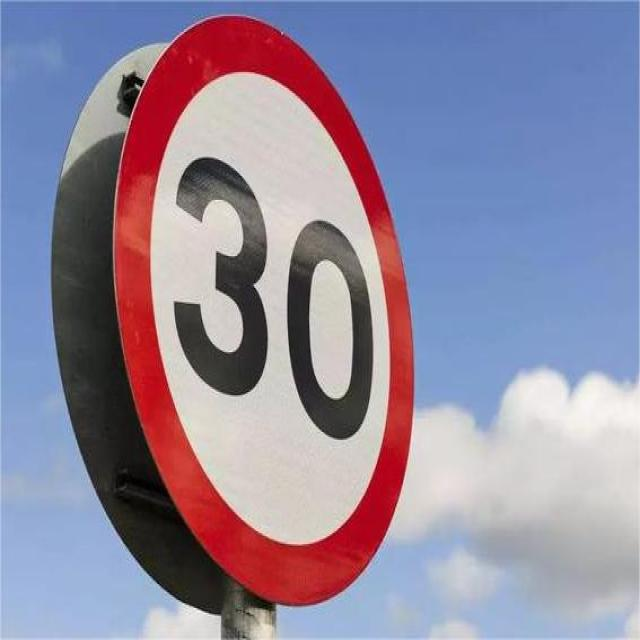speed limit 30: (115, 14, 414, 609)
